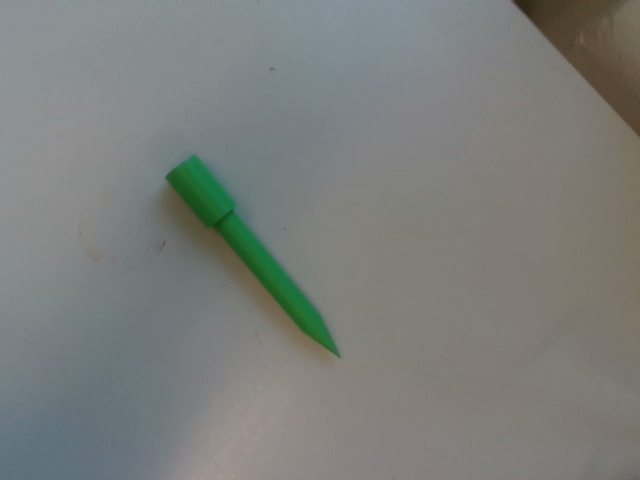Probe: (158, 150, 348, 364)
